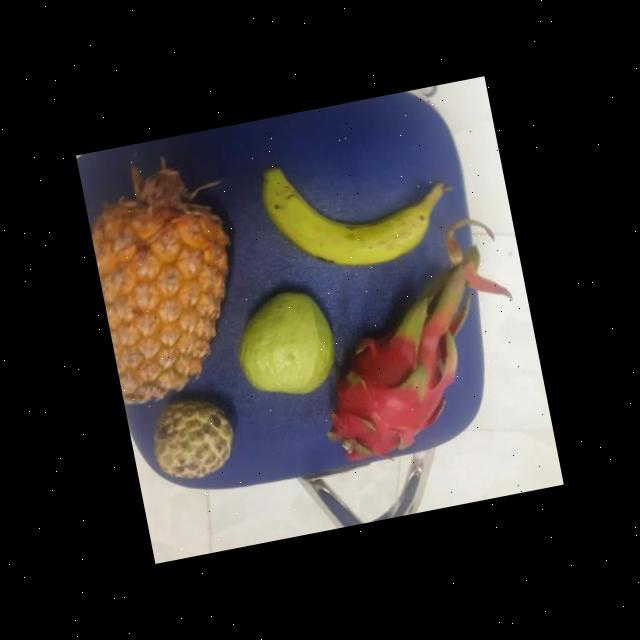Sakya fruit: (146, 389, 244, 484)
banana: (260, 140, 462, 282)
guava: (228, 286, 349, 402)
pitaya: (314, 310, 473, 466)
